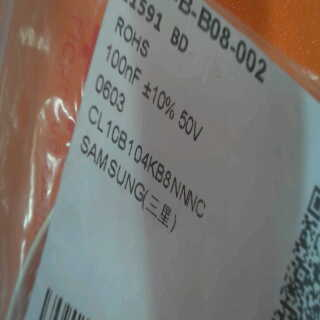100nF: (96, 41, 145, 85)
